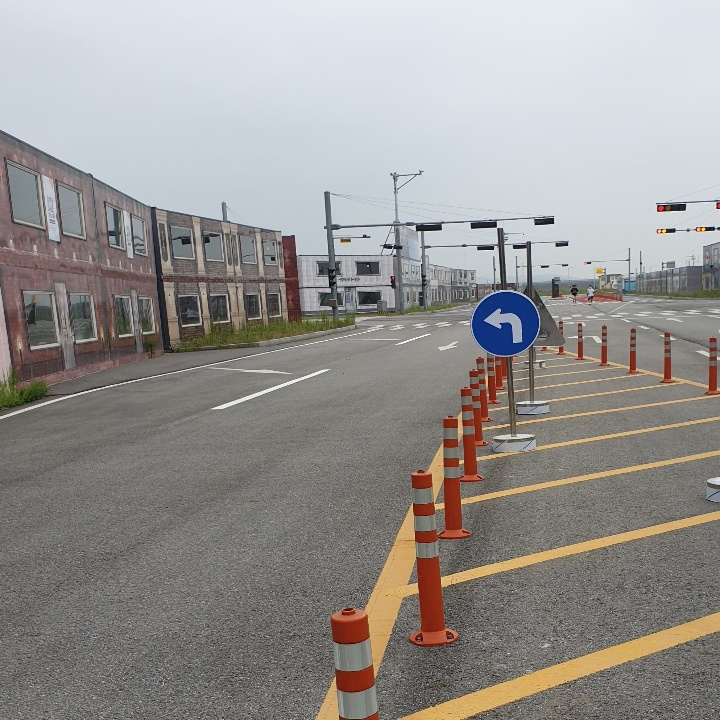left: (481, 303, 530, 348)
